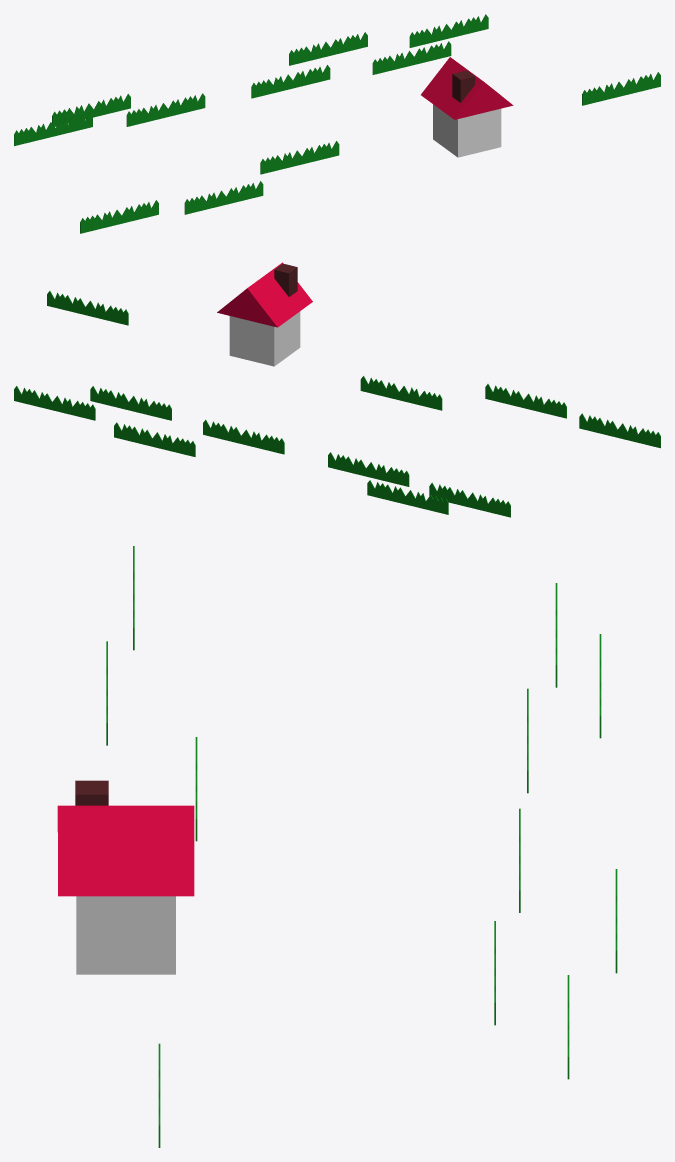
File: stageSelect_3.obj
3 views of the same model, one above another, from view 1: azimuth 30°, elevation 25°; view 2: azimuth 150°, elevation 25°; view 3: azimuth 270°, elevation 25° (orthographic). The views are drawn at different scales.
Parts seen in each view (by area): view 1: 立方体.014; view 2: 立方体.014; view 3: 立方体.014.
Part boxes in pixels (box(x1,y1,x2,y2)): 立方体.014: box(14, 14, 660, 233); 立方体.014: box(14, 262, 660, 517); 立方体.014: box(57, 546, 617, 1147).
Bounding box in the file's own units: 81.43 × 10.23 × 33.61.
1 material, 1 textured.
